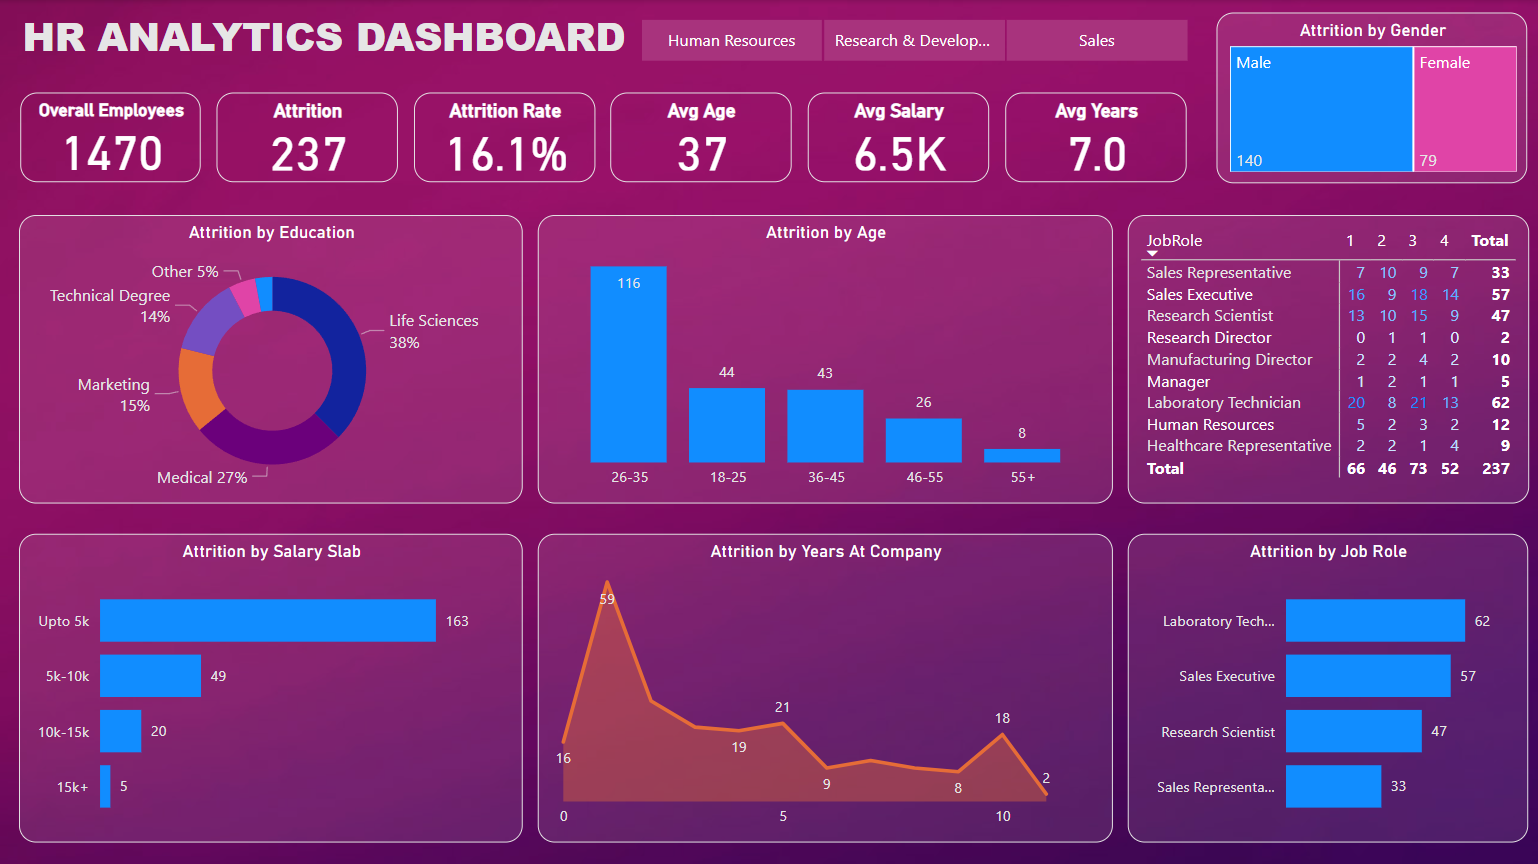

What the dashboard file says about the page in this screenshot:
{"tool":"powerbi","page":{"name":"Page 1","canvas":[1280,720],"ordinal":0},"visuals":[{"type":"card","title":"Overall Employees","fields":{"Values":["CountNonNull(HR_Analytics.EmpID)"]},"box":[17.2,76.7,149.6,74.1],"z":0},{"type":"card","title":"Attrition","fields":{"Values":["Sum(HR_Analytics.AttritionCount)"]},"box":[180.2,77.1,150.1,74.2],"z":1000},{"type":"card","title":"Attrition Rate","fields":{"Values":["HR_Analytics.AttritionRate"]},"box":[343.7,77.1,150.1,74.2],"z":2000},{"type":"card","title":"Avg Age","fields":{"Values":["Avg(HR_Analytics.Age)"]},"box":[507.2,77.1,150.1,74.2],"z":3000},{"type":"card","title":"Avg Years","fields":{"Values":["Avg(HR_Analytics.YearsAtCompany)"]},"box":[834.3,77.1,150.1,74.2],"z":4000},{"type":"card","title":"Avg Salary","fields":{"Values":["Avg(HR_Analytics.MonthlyIncome)"]},"box":[670.8,77.1,150.1,74.2],"z":5000},{"type":"donutChart","title":"Attrition by Education","fields":{"Category":["HR_Analytics.EducationField"],"Y":["Sum(HR_Analytics.AttritionCount)"]},"box":[16.7,178.7,417.6,239],"z":6000},{"type":"columnChart","title":"Attrition by Age","fields":{"Category":["HR_Analytics.AgeGroup"],"Y":["Sum(HR_Analytics.AttritionCount)"]},"box":[446.7,178.7,476.8,239],"z":7000},{"type":"pivotTable","fields":{"Rows":["HR_Analytics.JobRole"],"Values":["Sum(HR_Analytics.AttritionCount)"],"Columns":["HR_Analytics.JobSatisfaction"]},"box":[935.7,178.7,332.8,239],"z":8000},{"type":"barChart","title":"Attrition by Salary Slab","fields":{"Category":["HR_Analytics.SalarySlab"],"Y":["Sum(HR_Analytics.AttritionCount)"]},"box":[16.7,442.2,417.6,255.7],"z":9000},{"type":"barChart","title":"Attrition by Job Role ","fields":{"Y":["Sum(HR_Analytics.AttritionCount)"],"Category":["HR_Analytics.JobRole"]},"box":[935.7,442.2,331.6,255.7],"z":10000},{"type":"areaChart","title":"Attrition by Years At Company","fields":{"Category":["HR_Analytics.YearsAtCompany"],"Y":["Sum(HR_Analytics.AttritionCount)"]},"box":[446.7,442.2,476.8,255.7],"z":11000},{"type":"treemap","title":"Attrition by Gender","fields":{"Group":["HR_Analytics.Gender"],"Values":["Sum(HR_Analytics.AttritionCount)"]},"box":[1009.3,10.5,258,141.3],"z":12000},{"type":"slicer","fields":{"Values":["HR_Analytics.Department"]},"box":[507.1,9.4,502.2,48],"z":13000},{"type":"textbox","box":[0.8,2.6,536.5,64.5],"z":14000}]}

Visuals, with their boxes in screenshot pixels (x1, y1, x2, y2), scaled from the page's 1280x720 canvas onto the 1538x864 screenshot:
"Overall Employees" card: {"x1": 21, "y1": 92, "x2": 200, "y2": 181}
"Attrition" card: {"x1": 217, "y1": 93, "x2": 397, "y2": 182}
"Attrition Rate" card: {"x1": 413, "y1": 93, "x2": 593, "y2": 182}
"Avg Age" card: {"x1": 609, "y1": 93, "x2": 790, "y2": 182}
"Avg Years" card: {"x1": 1002, "y1": 93, "x2": 1183, "y2": 182}
"Avg Salary" card: {"x1": 806, "y1": 93, "x2": 986, "y2": 182}
"Attrition by Education" donutChart: {"x1": 20, "y1": 214, "x2": 522, "y2": 501}
"Attrition by Age" columnChart: {"x1": 537, "y1": 214, "x2": 1110, "y2": 501}
pivotTable - HR_Analytics.JobRole x Sum(HR_Analytics.AttritionCount): {"x1": 1124, "y1": 214, "x2": 1524, "y2": 501}
"Attrition by Salary Slab" barChart: {"x1": 20, "y1": 531, "x2": 522, "y2": 837}
"Attrition by Job Role " barChart: {"x1": 1124, "y1": 531, "x2": 1523, "y2": 837}
"Attrition by Years At Company" areaChart: {"x1": 537, "y1": 531, "x2": 1110, "y2": 837}
"Attrition by Gender" treemap: {"x1": 1213, "y1": 13, "x2": 1523, "y2": 182}
slicer - HR_Analytics.Department: {"x1": 609, "y1": 11, "x2": 1213, "y2": 69}
textbox: {"x1": 1, "y1": 3, "x2": 646, "y2": 81}
